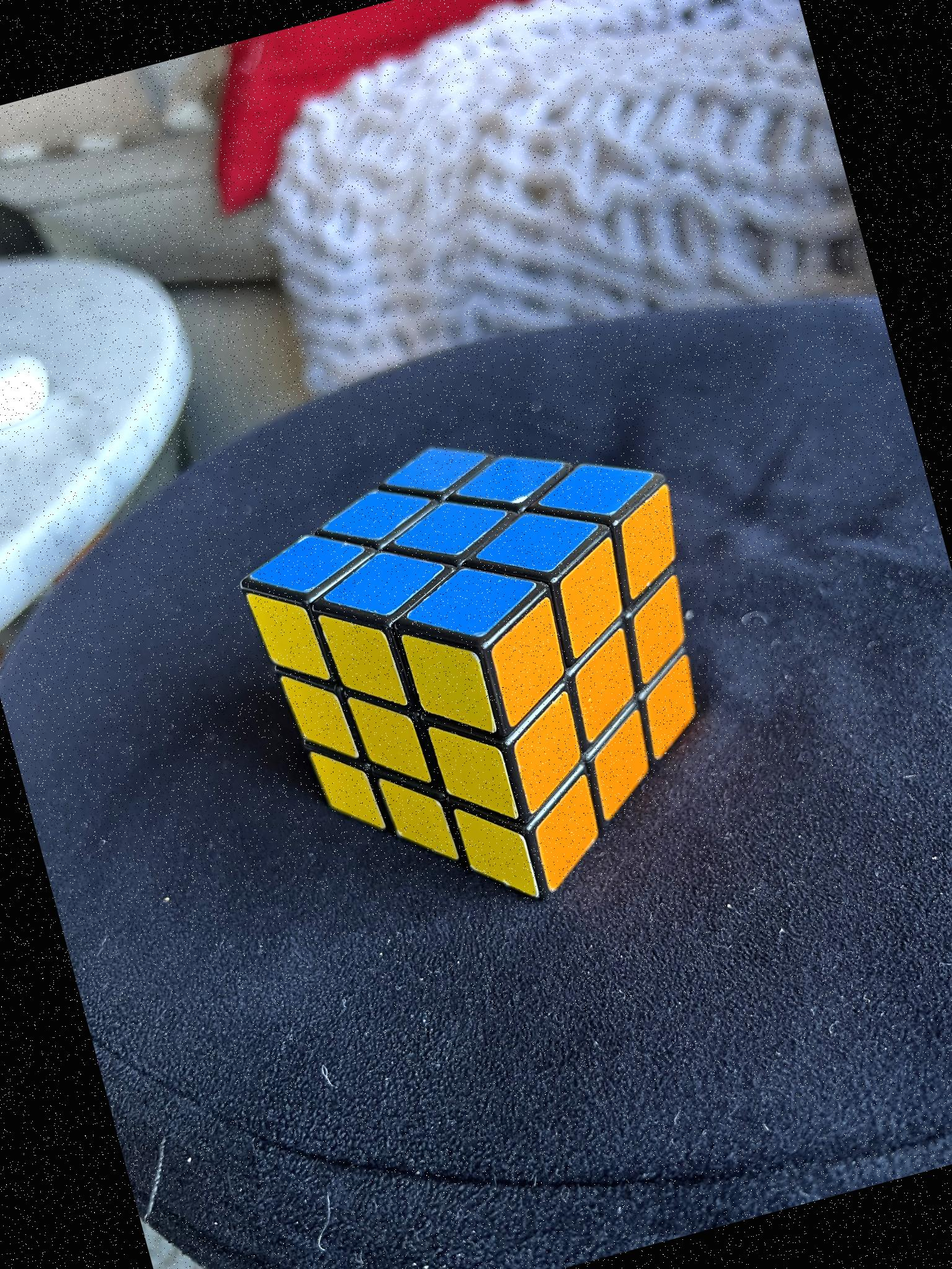rubiks_cube: (247, 446, 696, 896)
